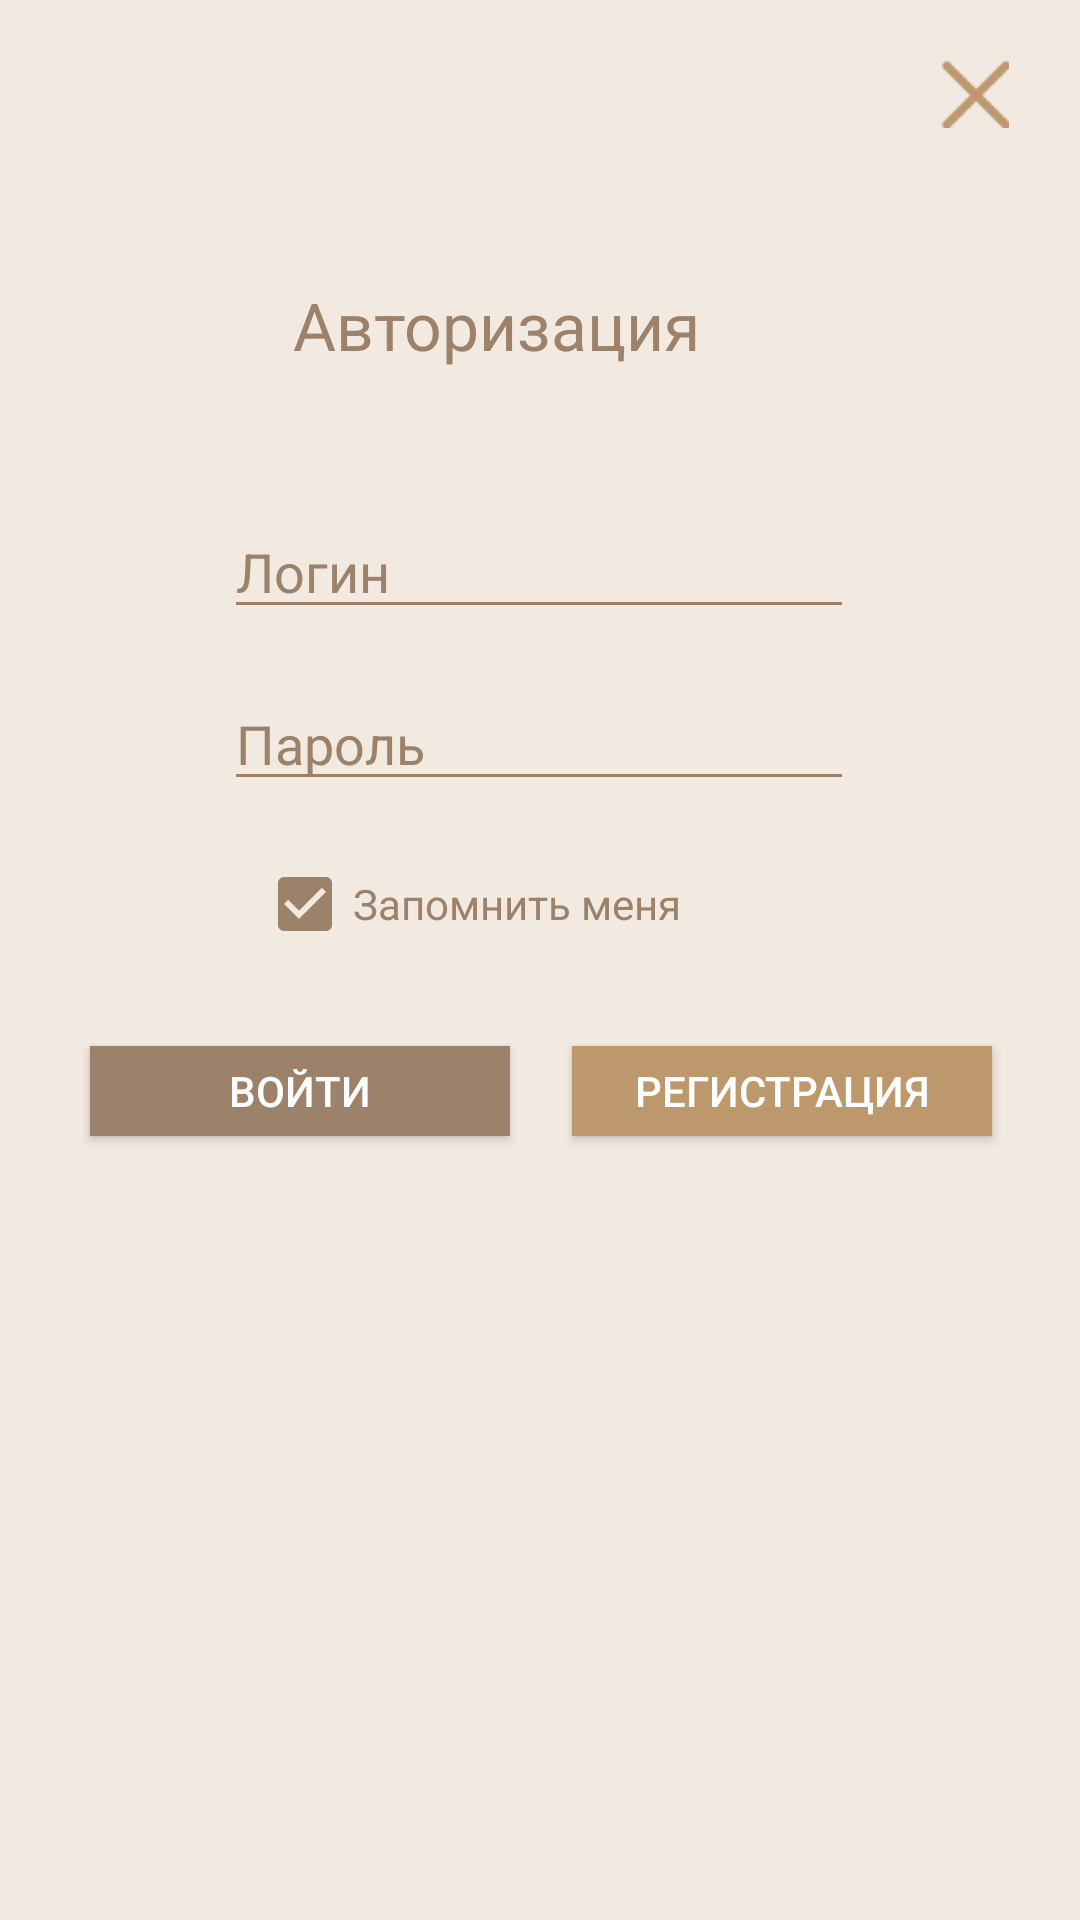

Icon click points for this 1080x1920 phone screenshot, format [x,y]:
close: [975,94]
